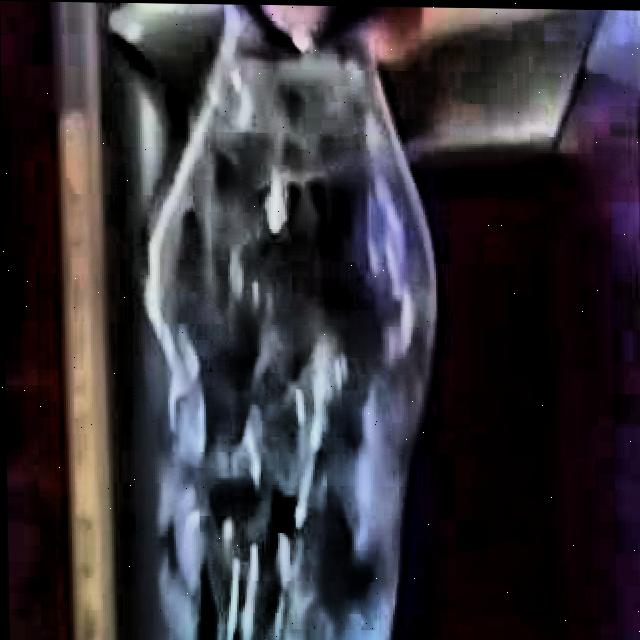plastic: (144, 3, 436, 640)
